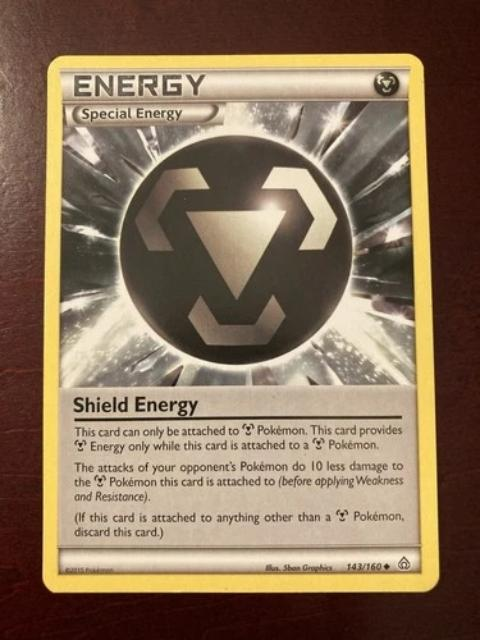Card: (36, 49, 443, 598)
Name: (63, 391, 208, 420)
